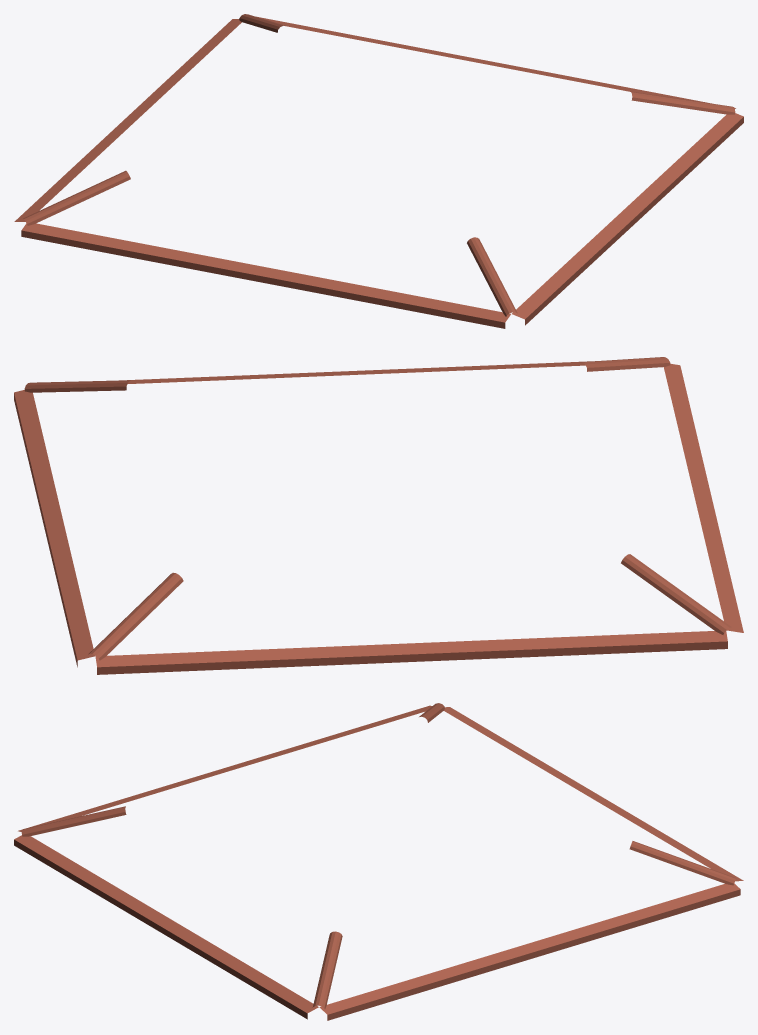
3 views of the same model, one above another, from view 1: azimuth 30°, elevation 25°; view 2: azimuth 150°, elevation 25°; view 3: azimuth 270°, elevation 25° (orthographic). The views are drawn at different scales.
Parts seen in each view (by area): view 1: detail; view 2: detail; view 3: detail.
Boxes of the visible parts, box(x1,y1,x2,y2) form: detail: box(14, 14, 743, 328); detail: box(14, 357, 743, 674); detail: box(14, 703, 743, 1020).
Bounding box in the file's own units: 16.42 × 1.16 × 16.38.
